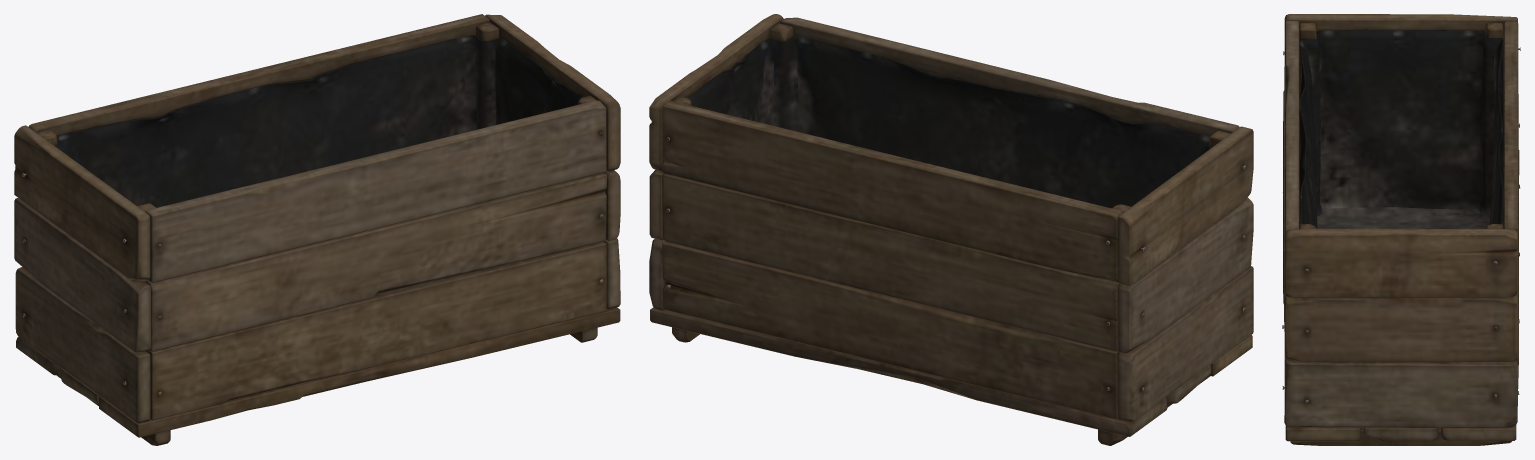
File: planter_box_01.glb
3 renders of one model, left to right at view 1: azimuth 30°, elevation 25°; view 2: azimuth 150°, elevation 25°; view 3: azimuth 270°, elevation 25°, orthographic. The views are drawn at different scales.
Visible parts, largest first — view 1: planter_box_01; view 2: planter_box_01; view 3: planter_box_01.
Boxes of the visible parts, box(x1,y1,x2,y2) form: planter_box_01: box(14, 14, 620, 445); planter_box_01: box(649, 14, 1253, 445); planter_box_01: box(1282, 14, 1520, 445).
Size of the model in its own units: 0.9126 by 0.4249 by 0.4137.
Materials: 1 (1 with a texture image).
